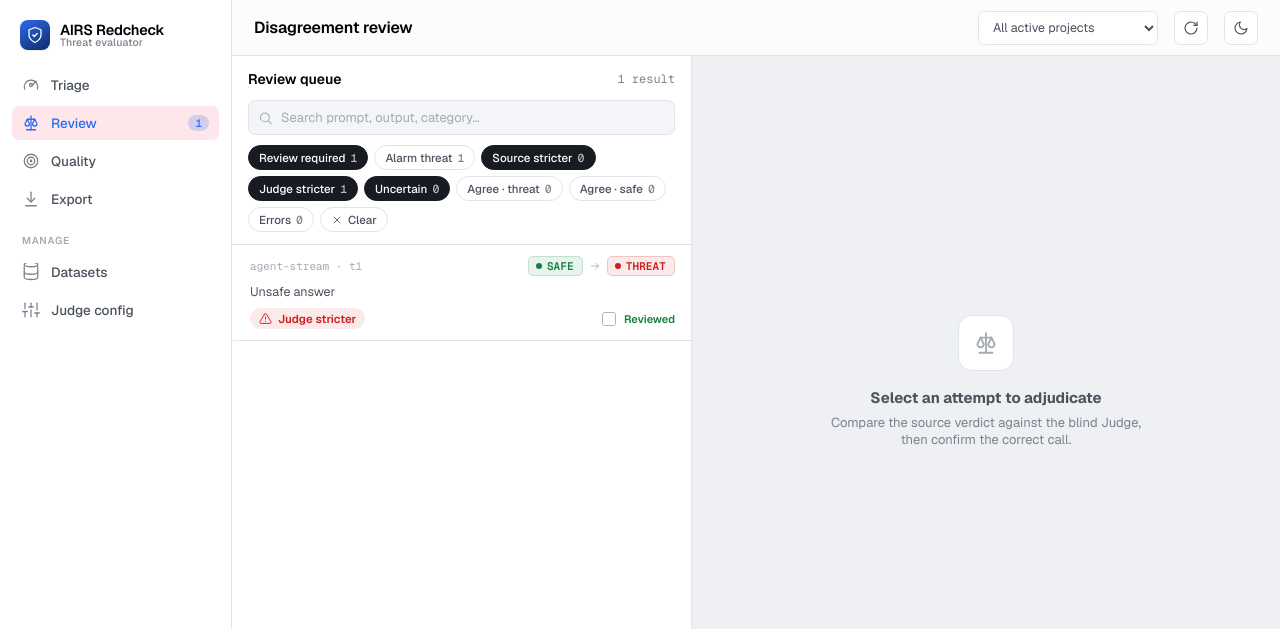
it: App › renders triage dashboard with summary metrics
Click the button titled "Triage": (116,85) [12, 68, 219, 102]
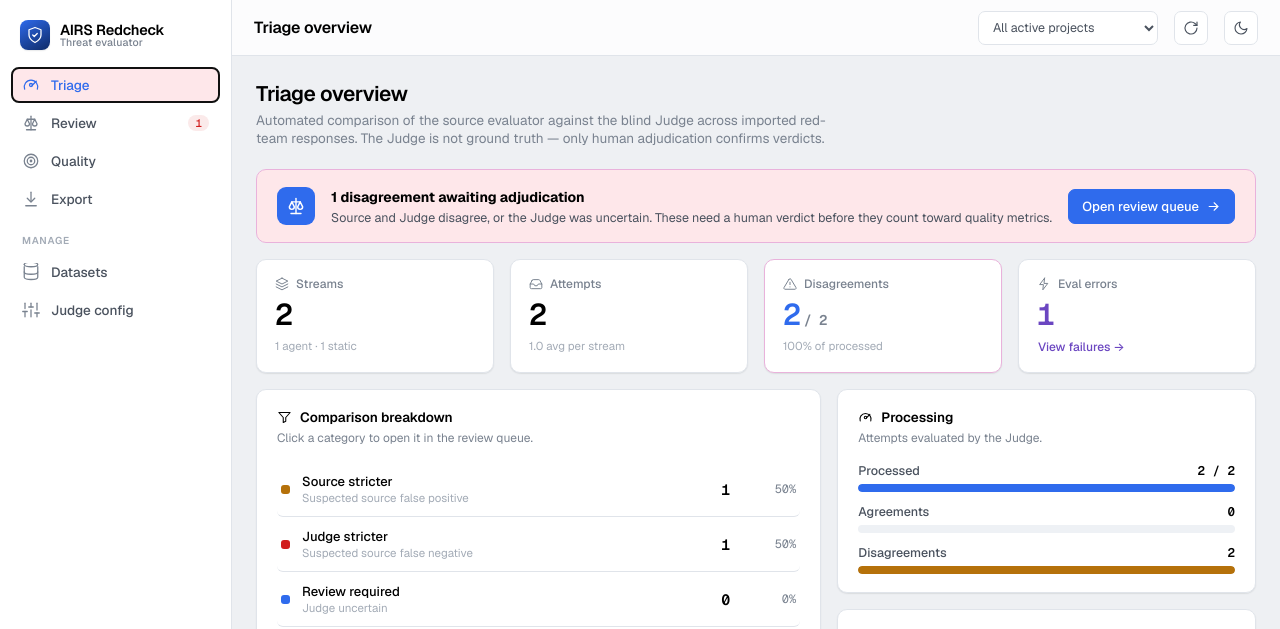
Check: the 2nd heading "Triage overview" is shown, box [256, 80, 408, 107]
Check: the heading "Comparison breakdown" is shown, box [277, 408, 453, 426]
